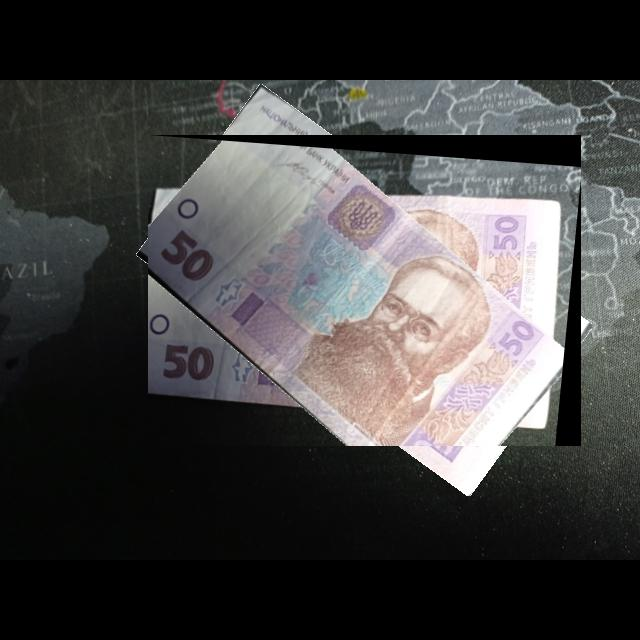50uah: (148, 135, 582, 447)
